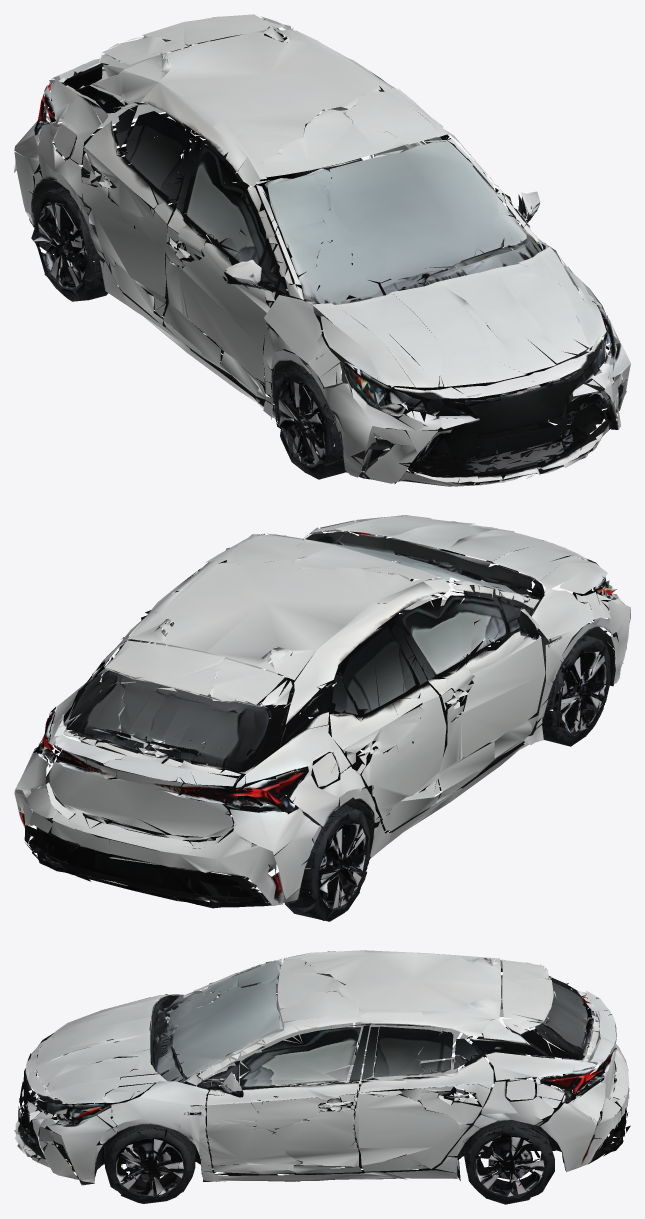
The model's file is car_hybrid.glb.
3 renders of one model, top to bottom at view 1: azimuth 30°, elevation 25°; view 2: azimuth 150°, elevation 25°; view 3: azimuth 270°, elevation 25°, orthographic. The views are drawn at different scales.
Parts seen in each view (by area): view 1: body; view 2: body; view 3: body, door_FL.
Boxes of the visible parts, box(x1,y1,x2,y2) form: body: box(14, 14, 630, 486); body: box(14, 515, 630, 921); body: box(14, 950, 630, 1204); door_FL: box(199, 1078, 358, 1166).
Size of the model in its own units: 0.8438 by 0.6084 by 1.91.
Materials: 1 (1 with a texture image).
